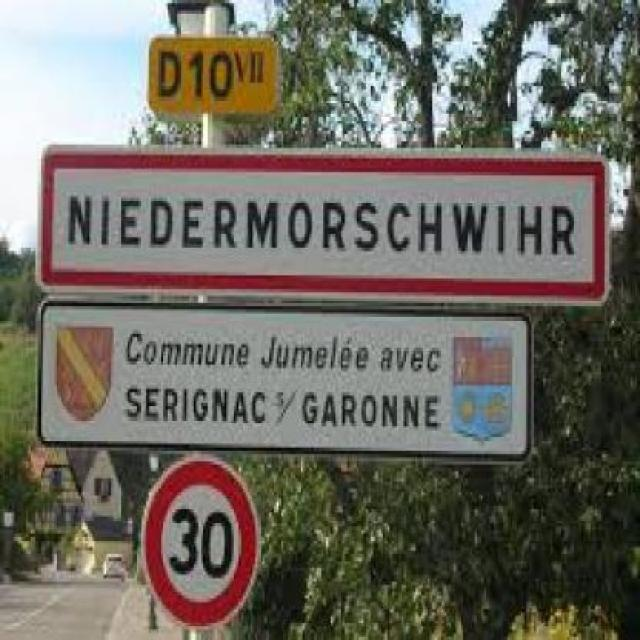forb_speed_over_30: (140, 458, 263, 633)
